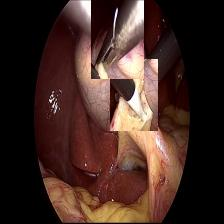Grasper: (92, 1, 144, 79)
Hook: (110, 60, 158, 131)
